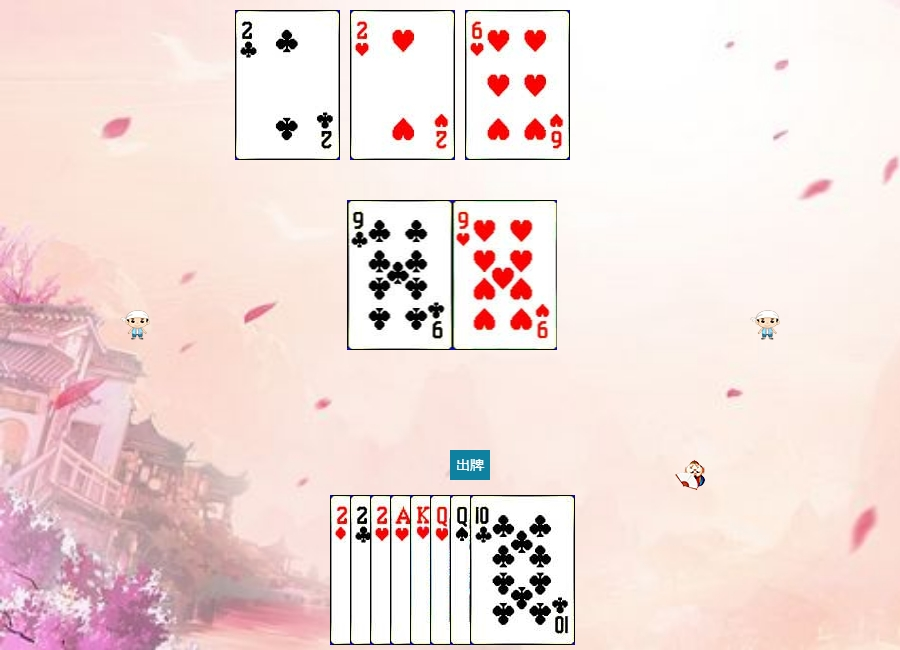10~2: (470, 495, 575, 645)
12~3: (430, 495, 535, 645)
12~4: (450, 495, 555, 645)
13~3: (410, 495, 515, 645)
14~3: (390, 495, 495, 645)
15~1: (330, 495, 435, 645)
15~2: (235, 10, 340, 160), (350, 495, 455, 645)
15~3: (350, 10, 455, 160), (370, 495, 475, 645)
6~3: (465, 10, 570, 160)
9~2: (348, 200, 453, 350)
9~3: (453, 200, 558, 350)
